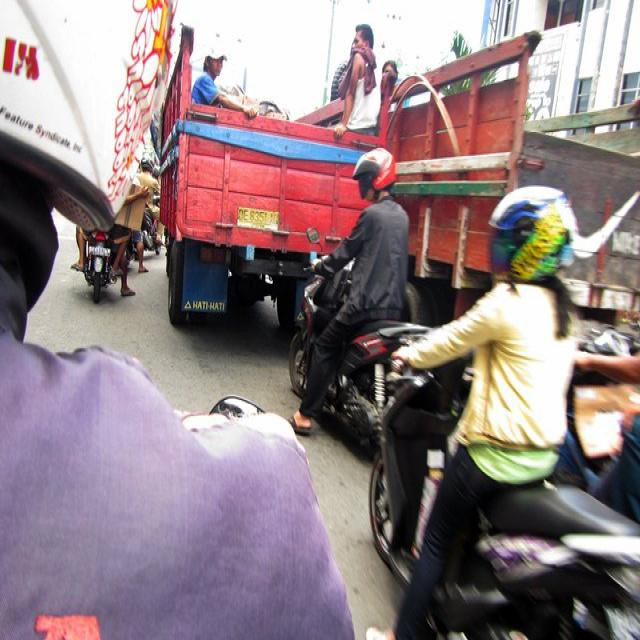motor: (372, 355, 637, 633), (286, 293, 417, 449), (78, 232, 116, 304)
